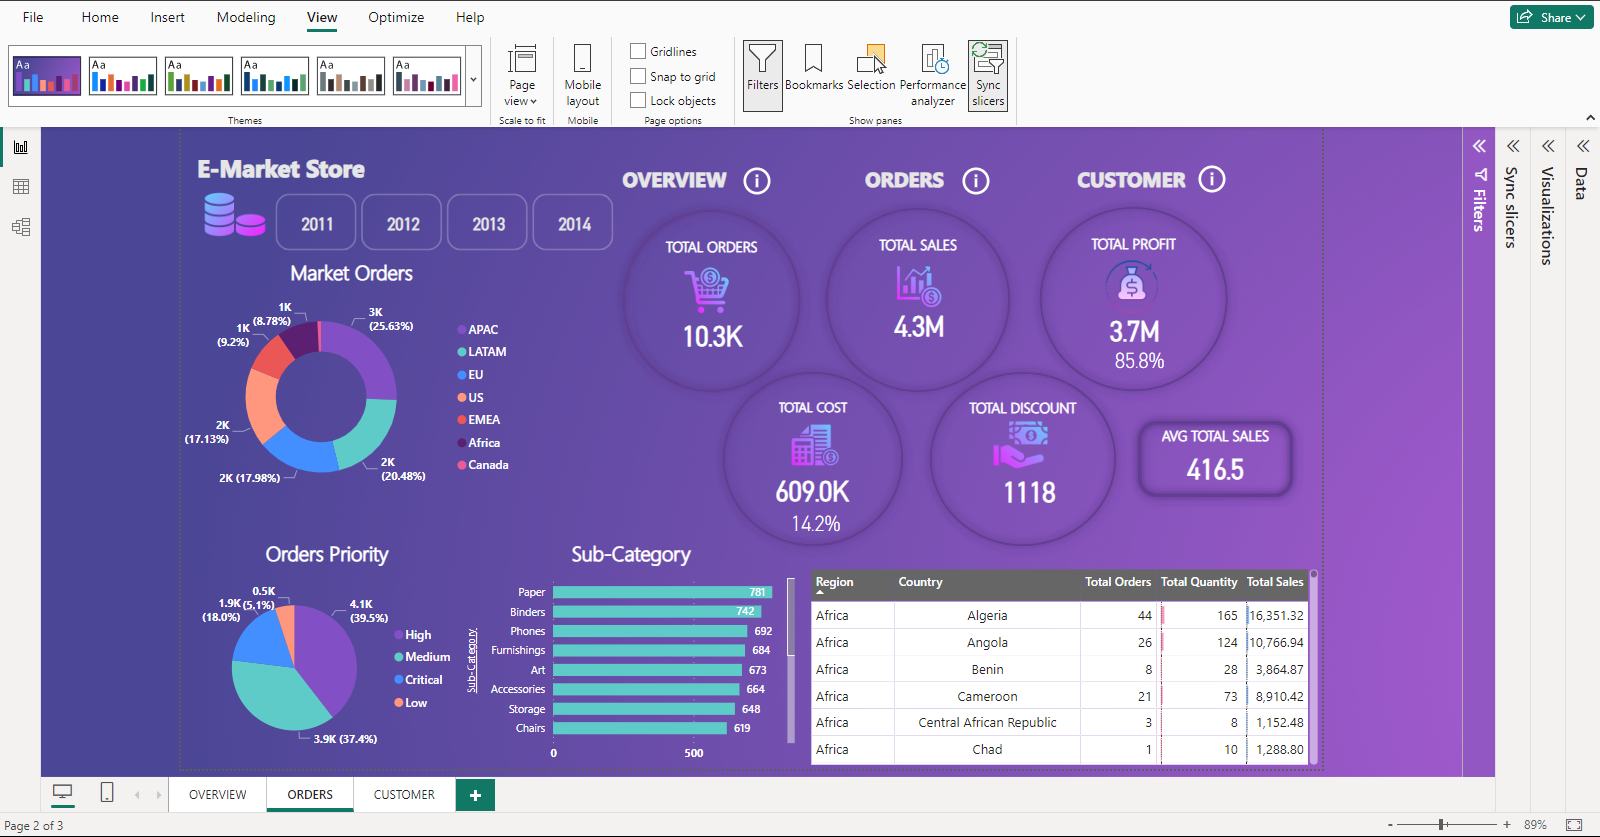

Layout of this report page (visuals, bound fields, positions):
{"tool":"powerbi","page":{"name":"ORDERS","canvas":[1280,720],"ordinal":2},"visuals":[{"type":"shape","box":[483.8,81.2,223.8,228.8],"z":0},{"type":"shape","box":[711,78.5,231,231],"z":1000},{"type":"shape","box":[951.2,77.5,235,231.2],"z":2000},{"type":"shape","box":[595.5,262.4,226.5,219.8],"z":3000},{"type":"actionButton","box":[443,29.2,220.9,58.3],"z":4000},{"type":"actionButton","box":[700.9,29.2,220.9,58.3],"z":5000},{"type":"actionButton","box":[955.5,29.2,220.9,58.3],"z":6000},{"type":"actionButton","box":[0,2.2,224.3,85.2],"z":7000},{"type":"card","fields":{"Values":["Orders.Total-orders"]},"box":[535,208.8,121.2,46.2],"z":8000},{"type":"card","fields":{"Values":["Sum(Orders.Sales)"]},"box":[763.8,188.8,128.8,66.2],"z":9000},{"type":"card","fields":{"Values":["All Maseure.Total Profit"]},"box":[1008.8,198.8,122.5,56.2],"z":10000},{"type":"image","box":[775,148,105.4,61.7],"z":11000},{"type":"image","box":[1031.2,143.8,68.8,70],"z":12000},{"type":"image","box":[533.8,151.2,111.2,62.5],"z":13000},{"type":"image","box":[19.1,58.3,81.9,78.5],"z":14000},{"type":"actionButton","box":[1136.1,38.1,99.8,40.4],"z":15000},{"type":"card","fields":{"Values":["All Maseure.% Total Profit"]},"box":[1036.2,233.8,77.5,56.2],"z":16000},{"type":"pieChart","title":"Orders Priority ","fields":{"Category":["Orders.Order Priority"],"Y":["Orders.Total-orders"]},"box":[11.2,463.2,305,256.8],"z":17000},{"type":"donutChart","title":"Market Orders","fields":{"Category":["Orders.Market"],"Y":["Orders.Total-orders"]},"box":[0,148,382.4,279.3],"z":18000},{"type":"shape","box":[827.7,262.4,233.3,219.8],"z":19000},{"type":"image","box":[905.7,324.1,91.1,72.7],"z":20000},{"type":"card","fields":{"Values":["All Maseure.Total Discount"]},"box":[887.3,388.9,127.9,49.1],"z":21000},{"type":"tableEx","fields":{"Values":["Orders.Region","Orders.Country","Orders.Total-orders","All Maseure.Total Quanitiuy","All Maseure.Total Sales"]},"box":[700.9,491.2,578.7,228.8],"z":22000},{"type":"shape","box":[1060.9,317.4,198.5,109.9],"z":23000},{"type":"card","fields":{"Values":["All Maseure.Avg Total Sales"]},"box":[1095.7,348.8,129,66.2],"z":24000},{"type":"barChart","title":"Sub-Category ","fields":{"Category":["Orders.Sub-Category"],"Y":["Orders.Total-orders"]},"box":[316.3,463.2,376.8,256.8],"z":25000},{"type":"advancedSlicerVisual","fields":{"Values":["Orders.Order Date.Variation.Date Hierarchy.Year"]},"box":[100.9,69.5,390.3,74],"z":26000},{"type":"actionButton","box":[625.8,40.4,99.8,40.4],"z":27000},{"type":"actionButton","box":[871.4,40.4,99.8,40.4],"z":28000},{"type":"image","box":[671.8,324.1,78.5,65],"z":29000},{"type":"card","fields":{"Values":["Sum(Orders.Shipping Cost)"]},"box":[647.1,385.8,121.1,41.5],"z":30000},{"type":"card","fields":{"Values":["All Maseure.% Shipping cost"]},"box":[672.9,415,77.4,57.2],"z":31000}]}

Visuals, with their boxes on the page's 1280x720 design canvas (x1, y1, x2, y2). These are canvas units, not pixel positions in the 1600x837 screenshot, which may show the page scaled, cropped or inside an application window:
shape: 484, 81, 708, 310
shape: 711, 78, 942, 310
shape: 951, 78, 1186, 309
shape: 596, 262, 822, 482
actionButton: 443, 29, 664, 88
actionButton: 701, 29, 922, 88
actionButton: 956, 29, 1176, 88
actionButton: 0, 2, 224, 87
card - Orders.Total-orders: 535, 209, 656, 255
card - Sum(Orders.Sales): 764, 189, 893, 255
card - All Maseure.Total Profit: 1009, 199, 1131, 255
image: 775, 148, 880, 210
image: 1031, 144, 1100, 214
image: 534, 151, 645, 214
image: 19, 58, 101, 137
actionButton: 1136, 38, 1236, 78
card - All Maseure.% Total Profit: 1036, 234, 1114, 290
"Orders Priority " pieChart: 11, 463, 316, 720
"Market Orders" donutChart: 0, 148, 382, 427
shape: 828, 262, 1061, 482
image: 906, 324, 997, 397
card - All Maseure.Total Discount: 887, 389, 1015, 438
tableEx - Orders.Region x Orders.Country: 701, 491, 1280, 720
shape: 1061, 317, 1259, 427
card - All Maseure.Avg Total Sales: 1096, 349, 1225, 415
"Sub-Category " barChart: 316, 463, 693, 720
advancedSlicerVisual - Orders.Order Date.Variation.Date Hierarchy.Year: 101, 70, 491, 144
actionButton: 626, 40, 726, 81
actionButton: 871, 40, 971, 81
image: 672, 324, 750, 389
card - Sum(Orders.Shipping Cost): 647, 386, 768, 427
card - All Maseure.% Shipping cost: 673, 415, 750, 472
